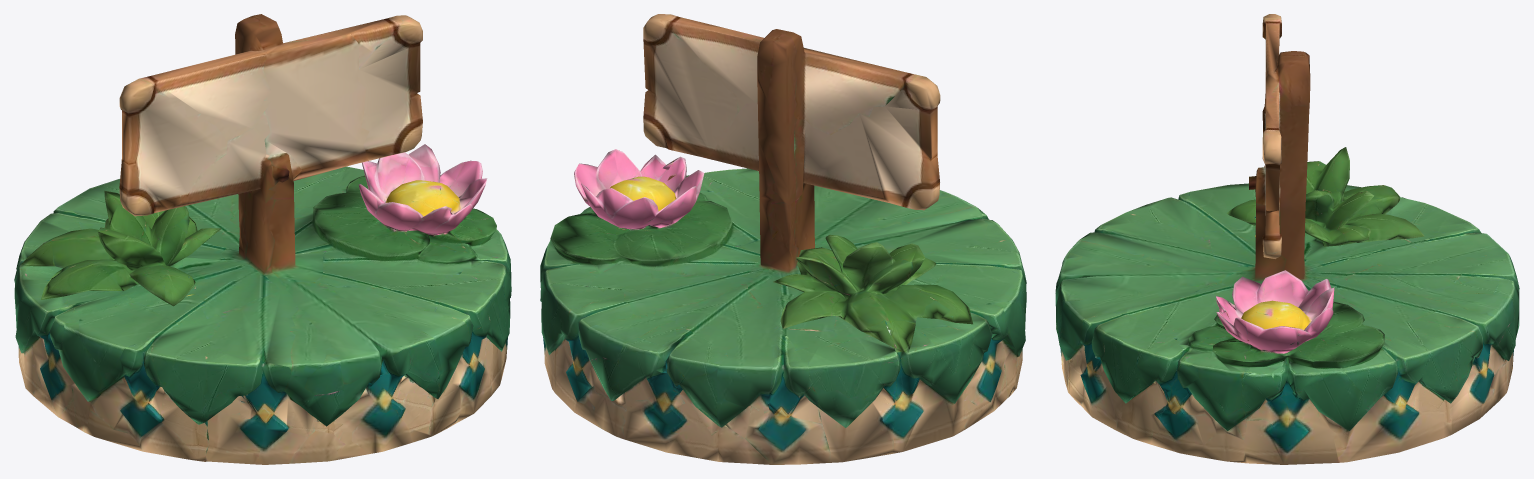
The model's file is froggy-lotus-leaf-sign.glb.
3 renders of one model, left to right at view 1: azimuth 30°, elevation 25°; view 2: azimuth 150°, elevation 25°; view 3: azimuth 270°, elevation 25°, orthographic. The views are drawn at different scales.
Size of the model in its own units: 1.9 by 1.42 by 1.9.
Materials: 1 (1 with a texture image).
